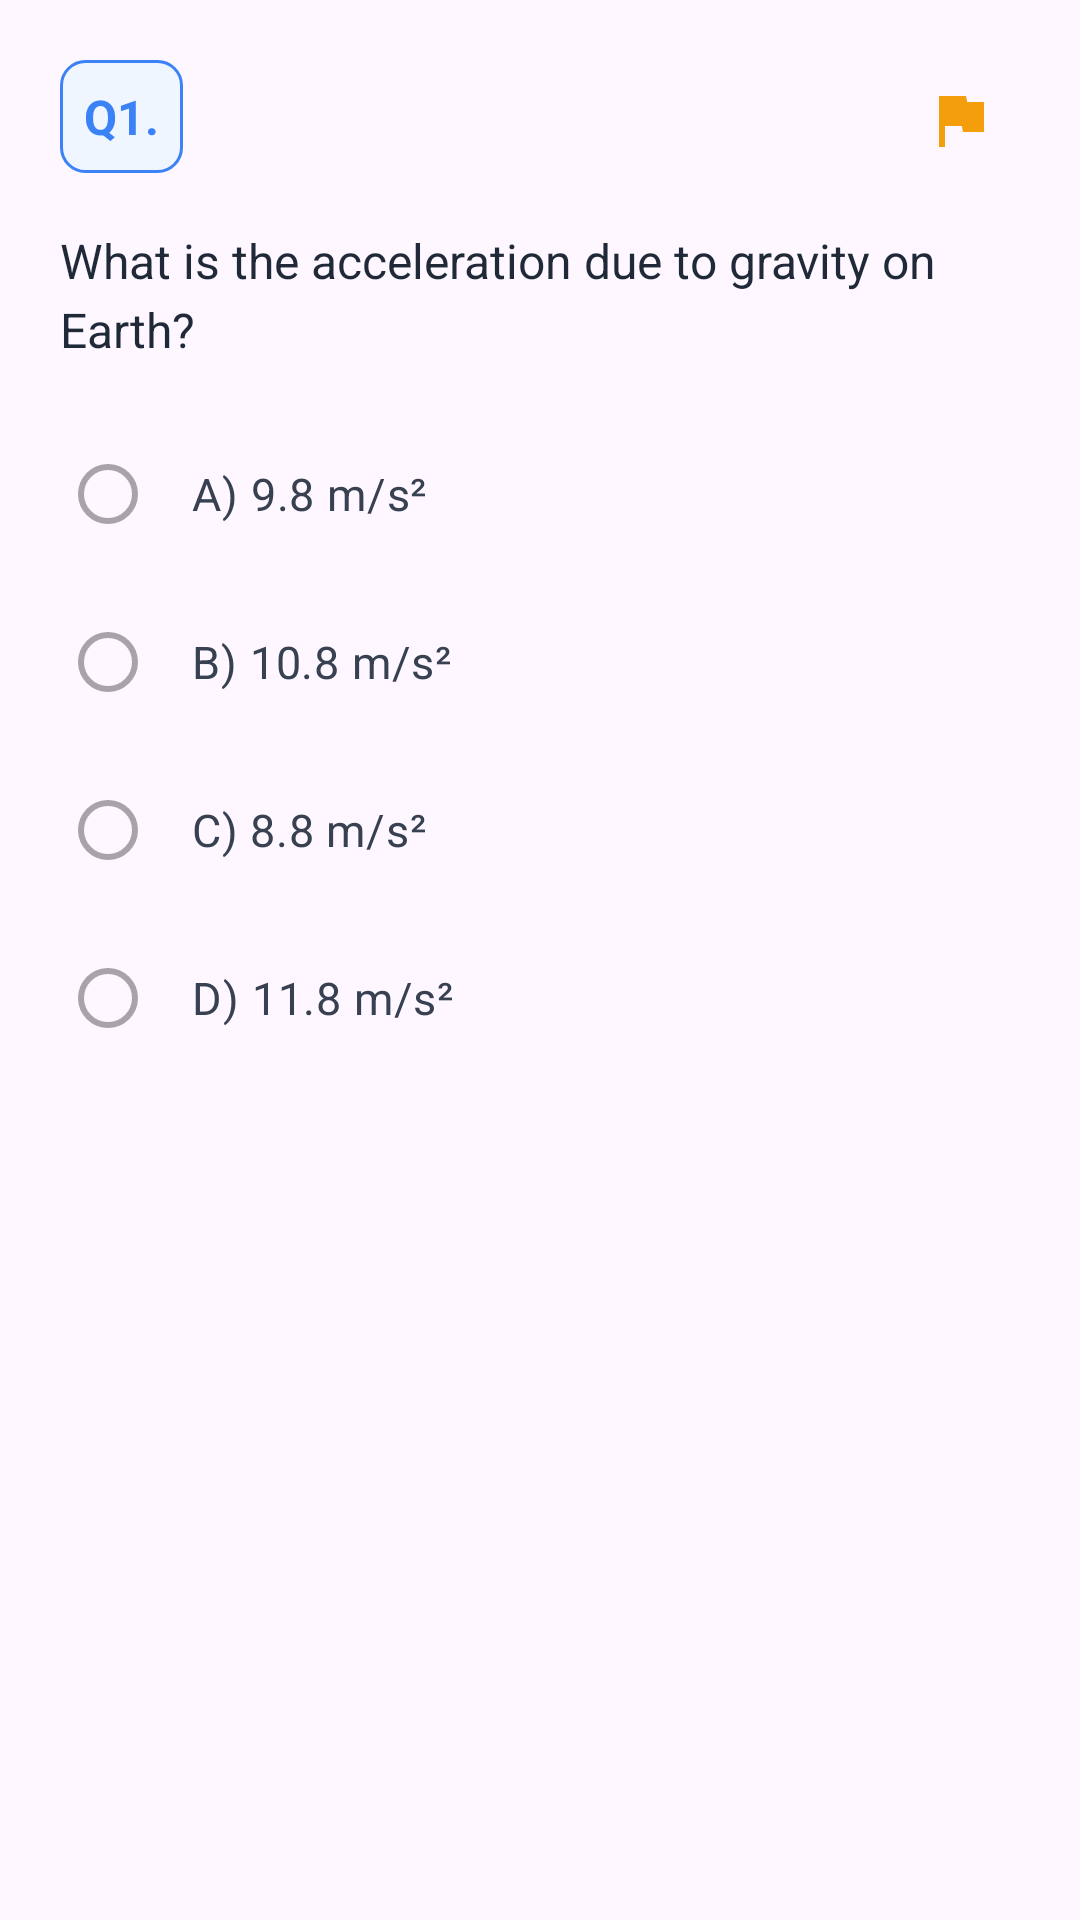

Point at icon controls on the screen. Image size 1080*1920, points as (x,y).
Flag this question: (961,121)
